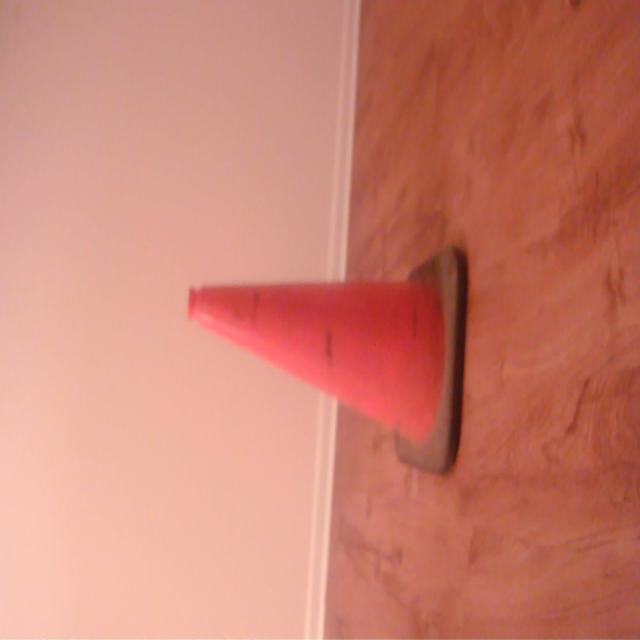traffic cone: (180, 239, 474, 491)
